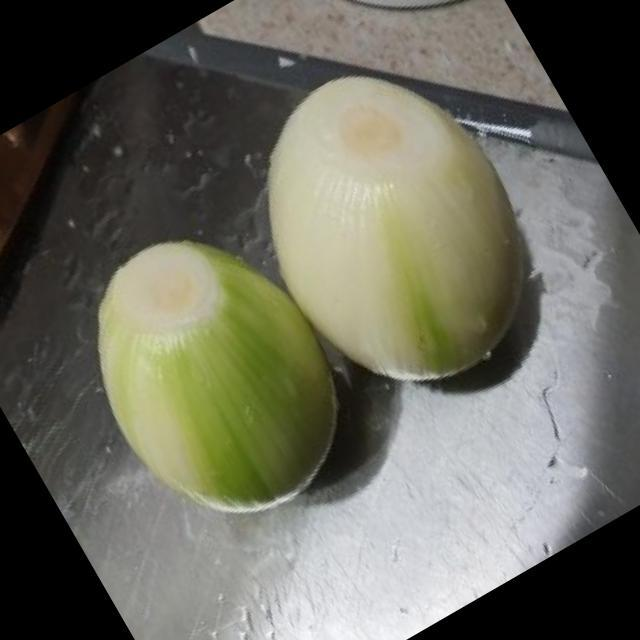Onion: (269, 79, 519, 376), (98, 238, 337, 512)
